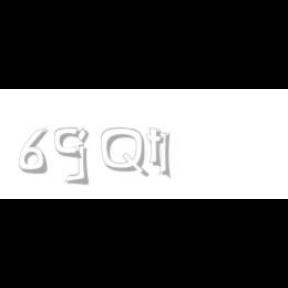6: (18, 128, 48, 176)
I: (158, 128, 171, 180)
Q: (101, 128, 147, 178)
c: (54, 128, 84, 160)
j: (74, 128, 104, 186)
t: (146, 128, 168, 168)
